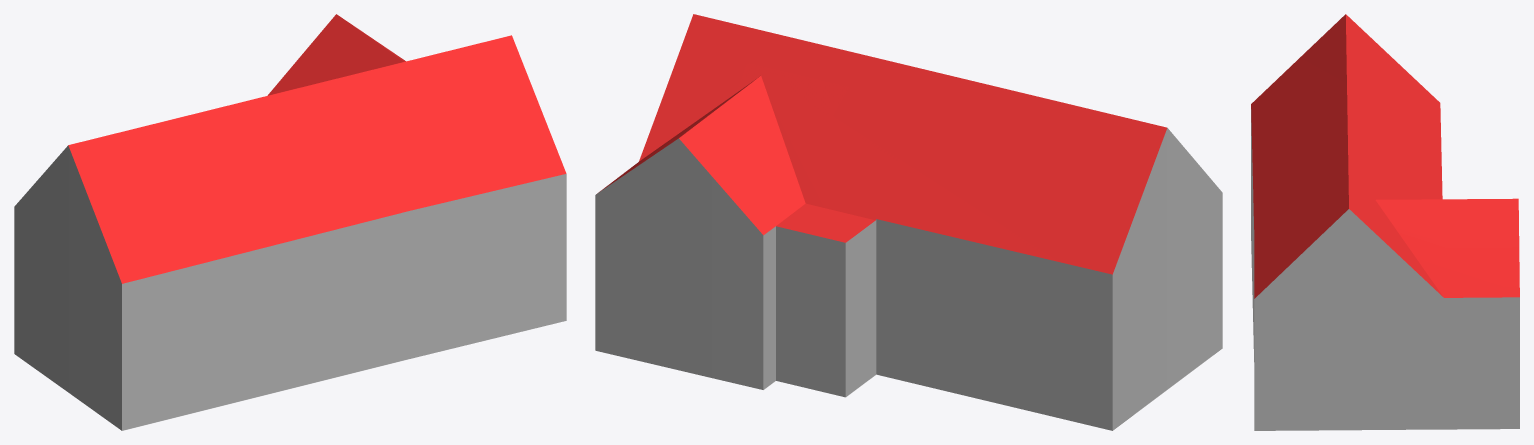
File: DEBY_LOD2_4725978.dae
The picture shows the model from 3 angles, left to right: view 1: azimuth 30°, elevation 25°; view 2: azimuth 150°, elevation 25°; view 3: azimuth 270°, elevation 25°; orthographic projection. The views are drawn at different scales.
Size of the model in its own units: 20.74 by 12.03 by 10.94.
